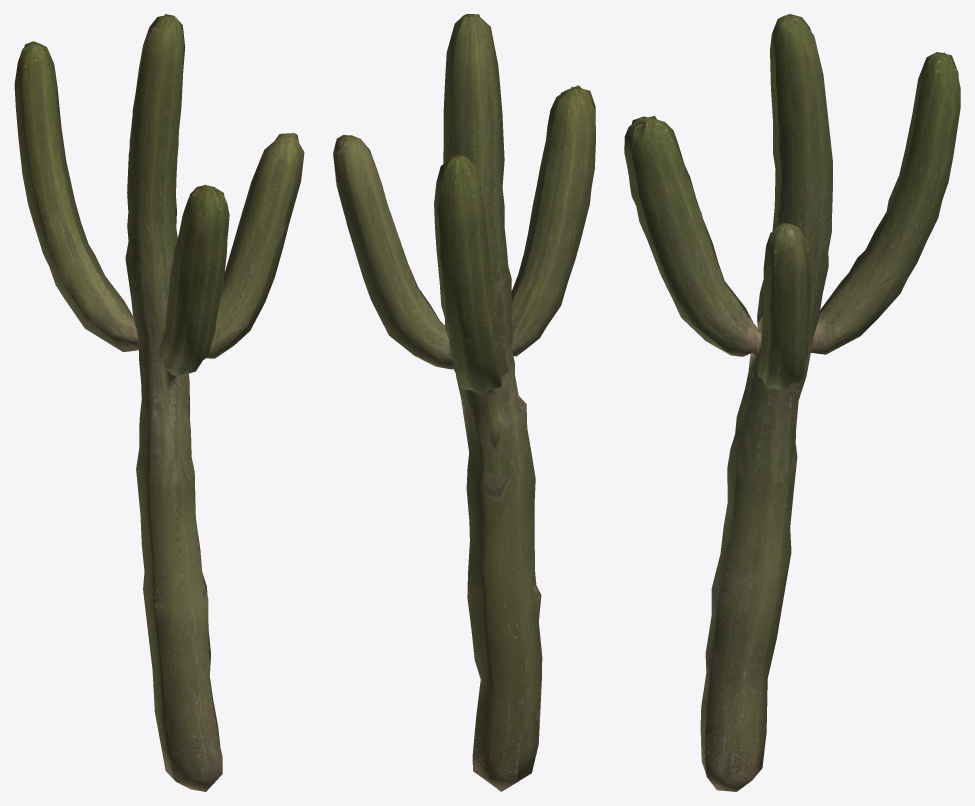
Rendered from saguaro.glb.
3 renders of one model, left to right at view 1: azimuth 30°, elevation 25°; view 2: azimuth 150°, elevation 25°; view 3: azimuth 270°, elevation 25°, orthographic. The views are drawn at different scales.
Parts seen in each view (by area): view 1: Cactus; view 2: Cactus; view 3: Cactus.
Part boxes in pixels (x1=…): Cactus: x1=14, y1=14, x2=304, y2=791; Cactus: x1=333, y1=14, x2=595, y2=791; Cactus: x1=624, y1=14, x2=960, y2=791.
Size of the model in its own units: 0.9521 by 3.26 by 1.28.
Materials: 1 (1 with a texture image).
